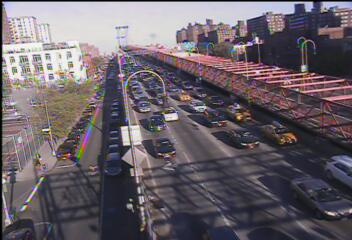neg: (99, 95, 117, 120), (149, 120, 165, 141), (212, 73, 227, 94), (121, 197, 132, 212)
pos: (32, 151, 43, 166)
